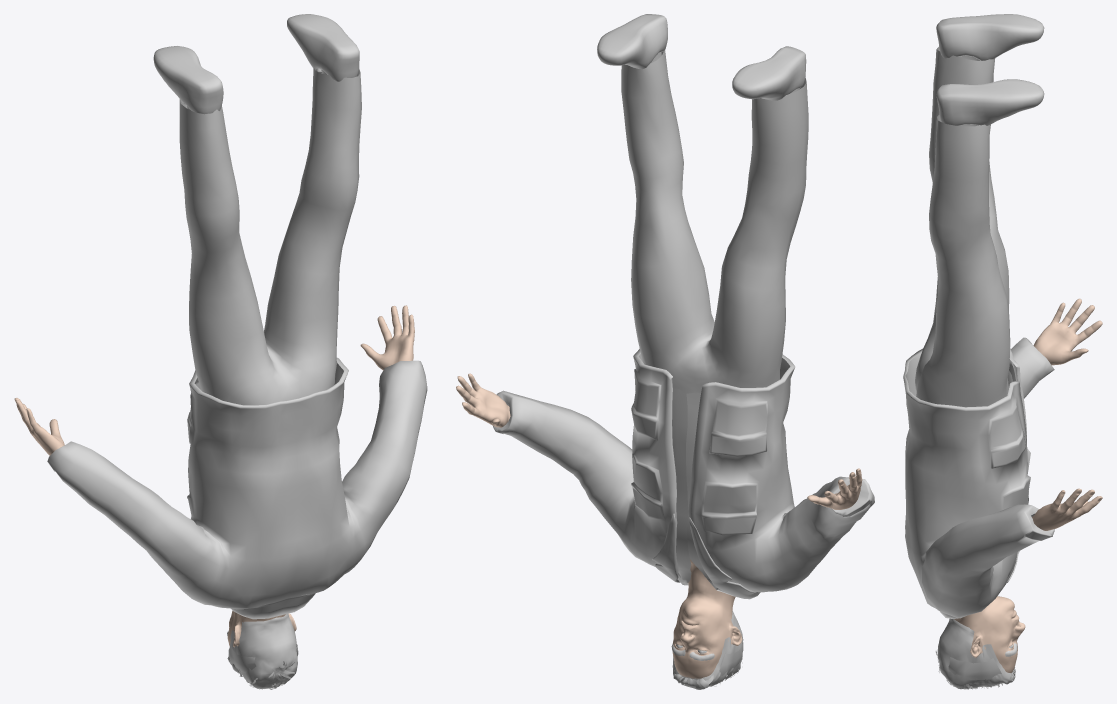
Rendered from DevPlusEthan.dae.
3 views of the same model, side by side, from view 1: azimuth 30°, elevation 25°; view 2: azimuth 150°, elevation 25°; view 3: azimuth 270°, elevation 25° (orthographic).
Parts seen in each view (by area): view 1: dev_drake-male_casualsuit05, dev_drake-shoes06, dev_drake-short01, dev_drake-male_muscle_13290; view 2: dev_drake-male_casualsuit05, dev_drake-male_muscle_13290, dev_drake-shoes06, dev_drake-short01; view 3: dev_drake-male_casualsuit05, dev_drake-shoes06, dev_drake-male_muscle_13290, dev_drake-short01.
Boxes of the visible parts, x1,y1,x2,y2 form: dev_drake-male_casualsuit05: [47, 68, 427, 619]; dev_drake-shoes06: [153, 14, 359, 114]; dev_drake-short01: [227, 614, 298, 689]; dev_drake-male_muscle_13290: [14, 305, 414, 647]; dev_drake-male_casualsuit05: [493, 50, 874, 599]; dev_drake-male_muscle_13290: [456, 373, 862, 678]; dev_drake-shoes06: [597, 14, 806, 100]; dev_drake-short01: [672, 611, 743, 689]; dev_drake-male_casualsuit05: [903, 46, 1054, 618]; dev_drake-shoes06: [936, 14, 1044, 126]; dev_drake-male_muscle_13290: [954, 298, 1102, 672]; dev_drake-short01: [935, 618, 1015, 689].
Bounding box in the file's own units: 1092 × 481 × 1688.
